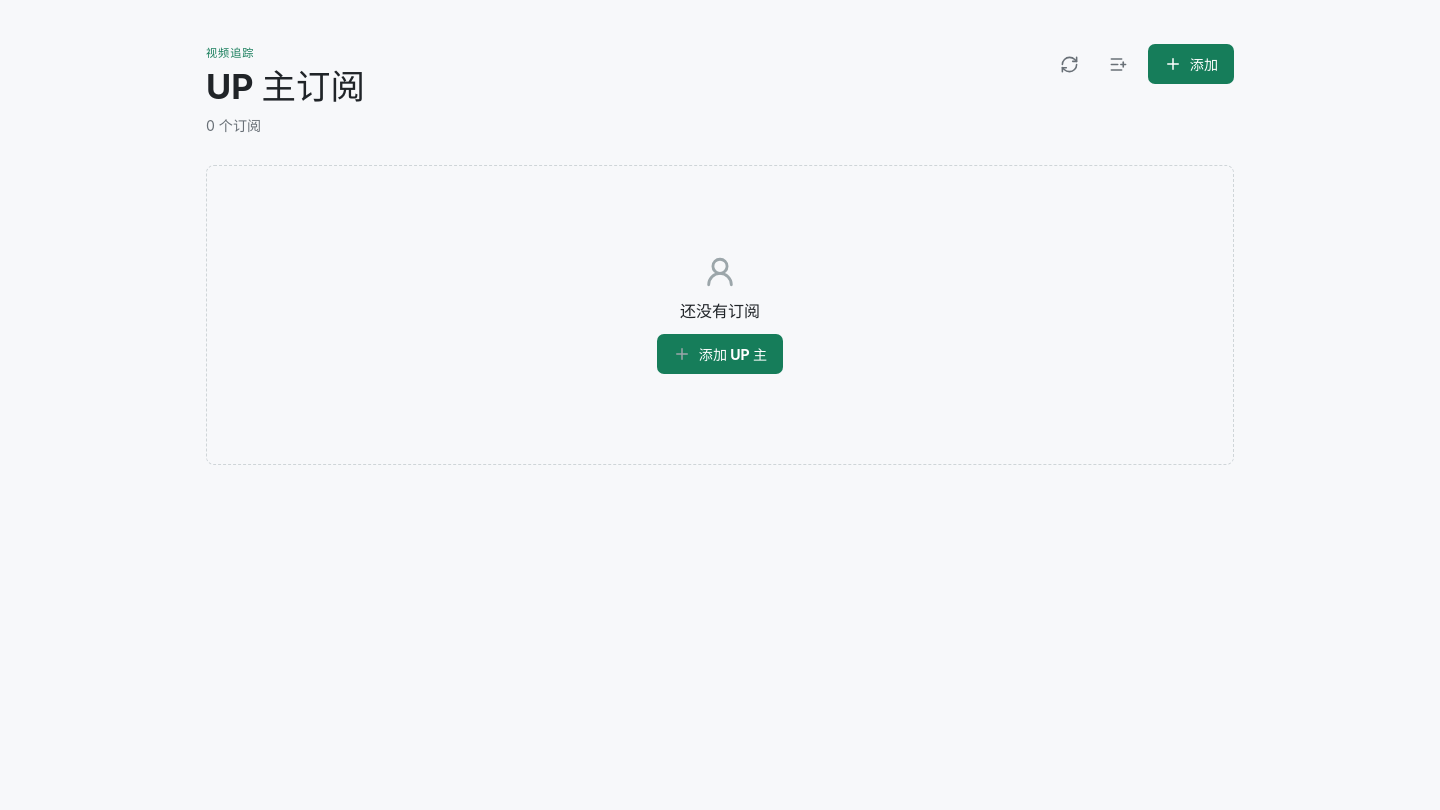
SubscriptionsView › imports selected accounts from the current following page
What coordinates should you click on to do the following:
click the button titled "从关注导入"
I would click on:
 (1119, 64)
Its box is left=1099, top=44, right=1139, bottom=84.
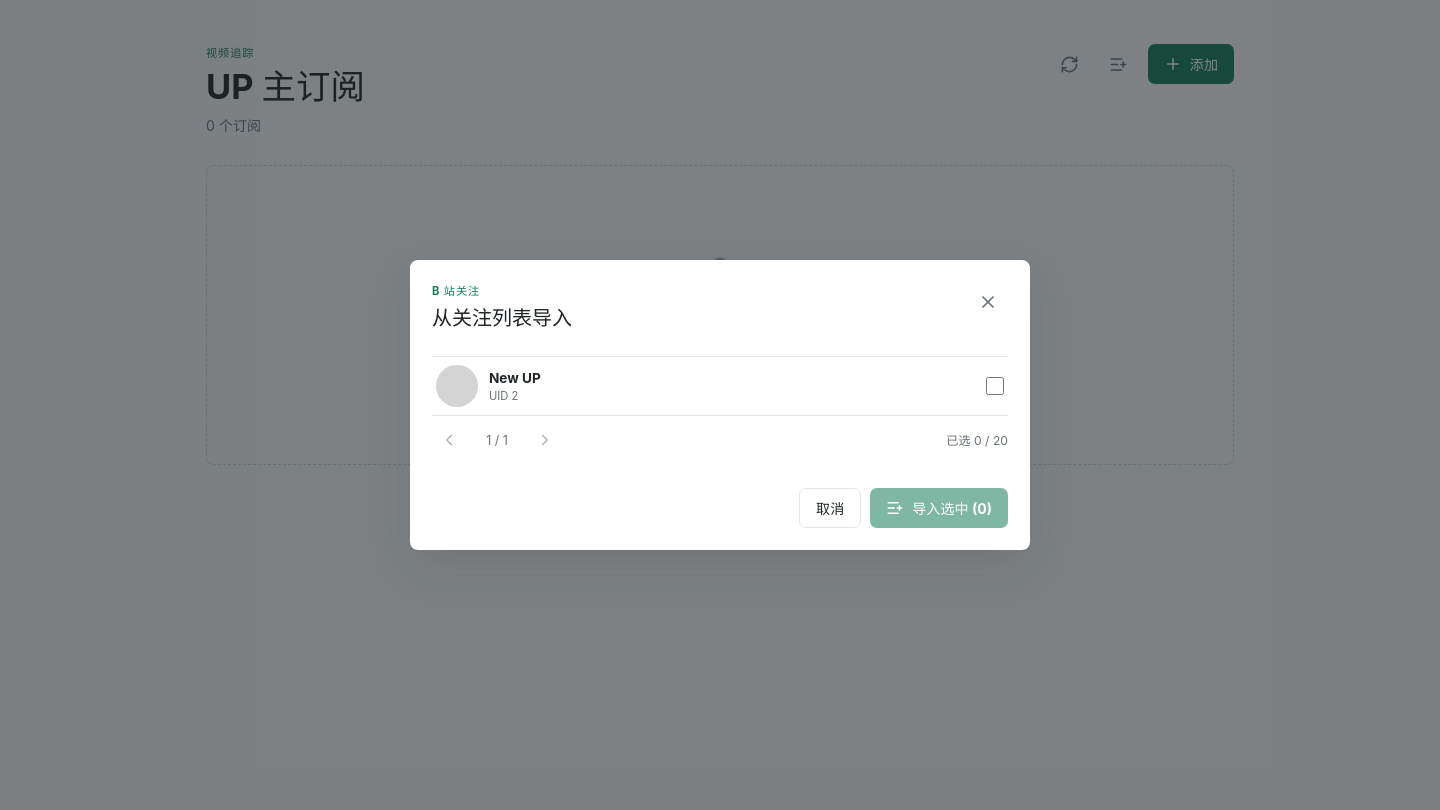
What coordinates should you click on to do the following:
click the checkbox labelled "New UP UID 2"
I would click on:
 (995, 386)
Its box is left=986, top=377, right=1004, bottom=395.
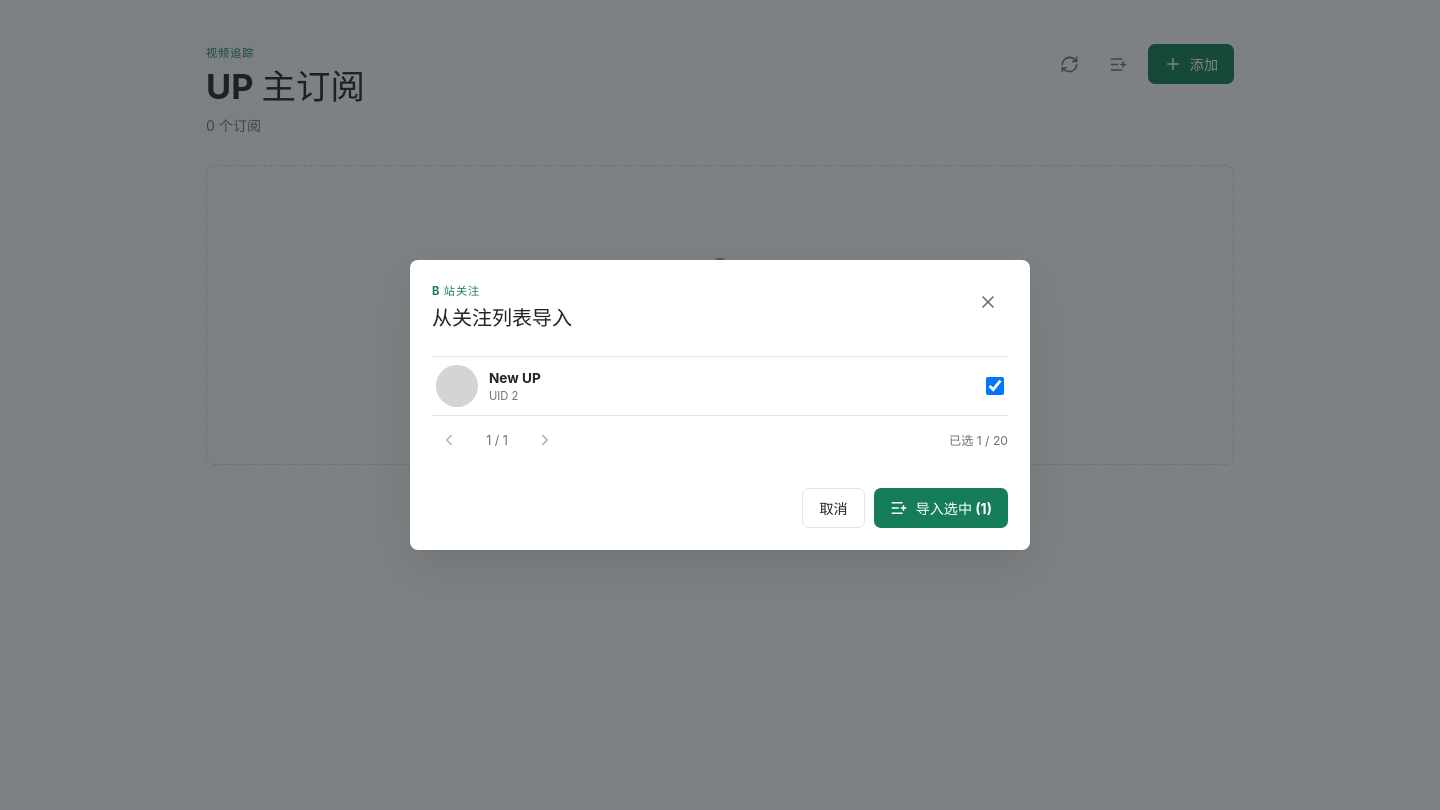
What coordinates should you click on to do the following:
click the button "导入选中 (1)"
I would click on:
 (941, 508)
Its box is left=874, top=488, right=1008, bottom=528.
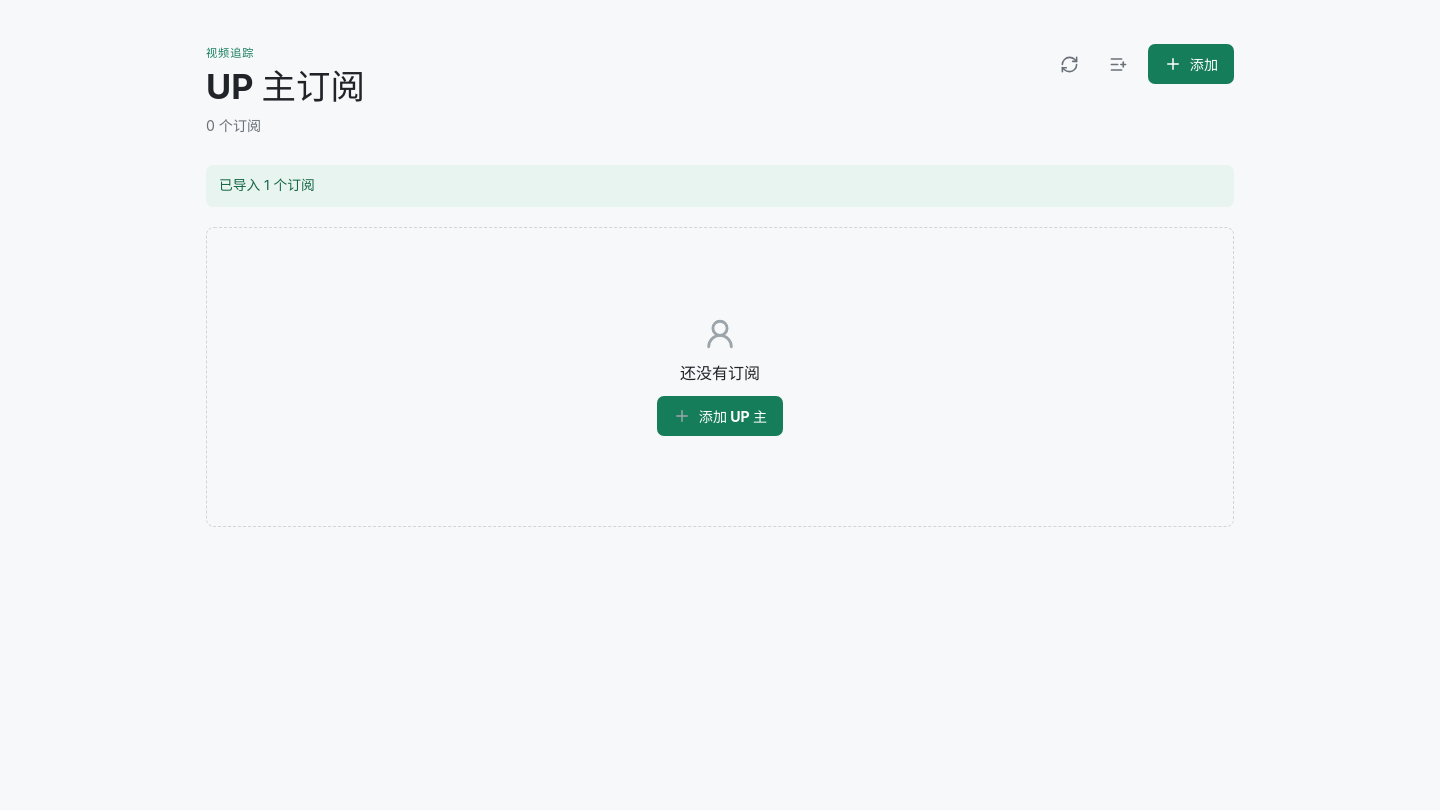
Now the text "已导入 1 个订阅" is shown, box left=206, top=165, right=1234, bottom=207
